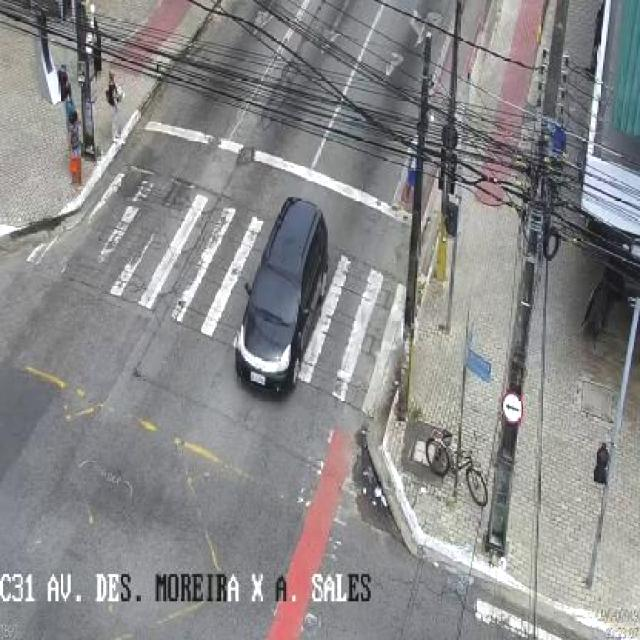Car: (199, 186, 357, 410)
Cycle: (395, 421, 507, 503)
